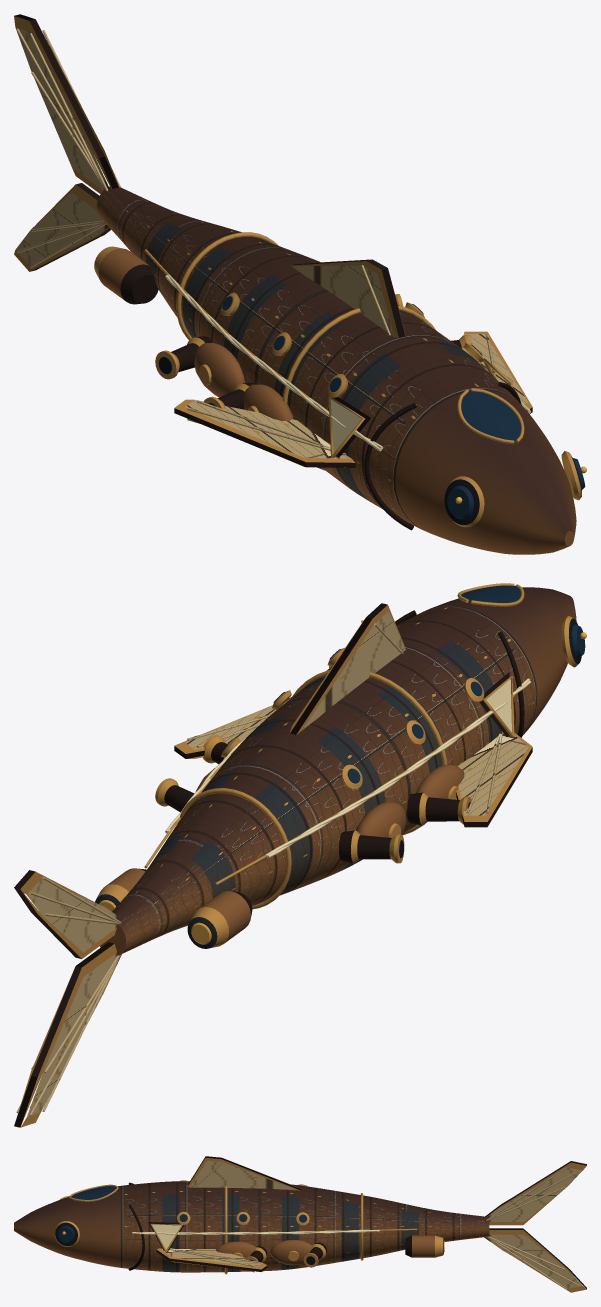
The picture shows the model from 3 angles, top to bottom: view 1: azimuth 30°, elevation 25°; view 2: azimuth 150°, elevation 25°; view 3: azimuth 270°, elevation 25°; orthographic projection. The views are drawn at different scales.
Parts seen in each view (by area): view 1: pilotfish_hull; view 2: pilotfish_hull; view 3: pilotfish_hull.
Boxes of the visible parts, x1=… form: pilotfish_hull: x1=14, y1=14, x2=586, y2=554; pilotfish_hull: x1=14, y1=583, x2=586, y2=1127; pilotfish_hull: x1=14, y1=1156, x2=586, y2=1292.
Bounding box in the file's own units: 5.24 × 4.16 × 16.
Materials: 1 (1 with a texture image).
